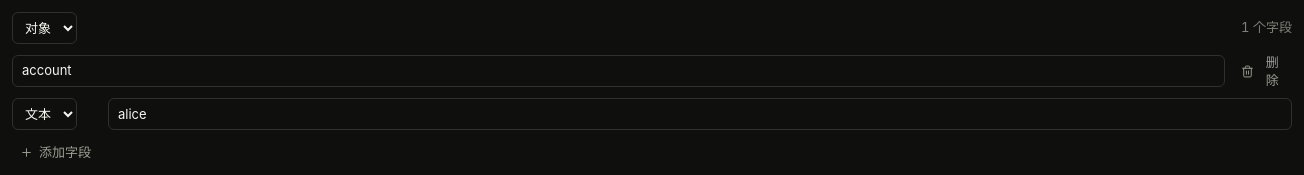
ProgramJsonValueField compact layout › keeps object keys beside their action and preserves destructive type confirmation
Check: the field named "字段名称" holds "account", box [12,55,1225,87]
Check: the button "删除" is shown, box [1233,52,1292,90]
Select "列表" in the dropdown in the row of "1 个字段". click: [44, 28]
box: [12,12,77,44]
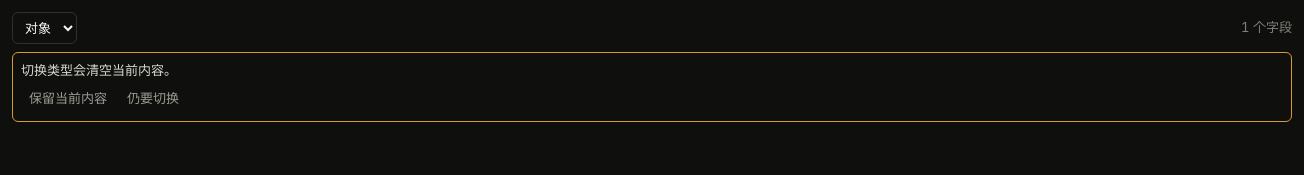
Check: the message with class "kind-change-confirm" shows "切换类型会清空当前内容", box [21,62,177,78]
